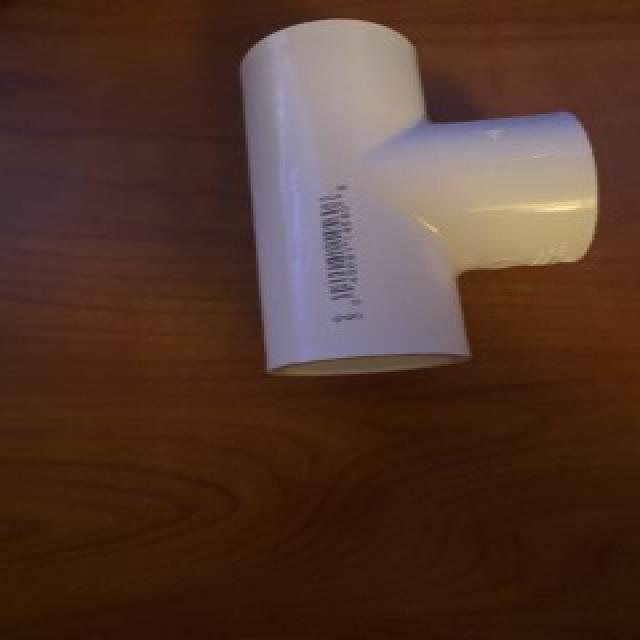T Joint: (239, 18, 599, 380)
